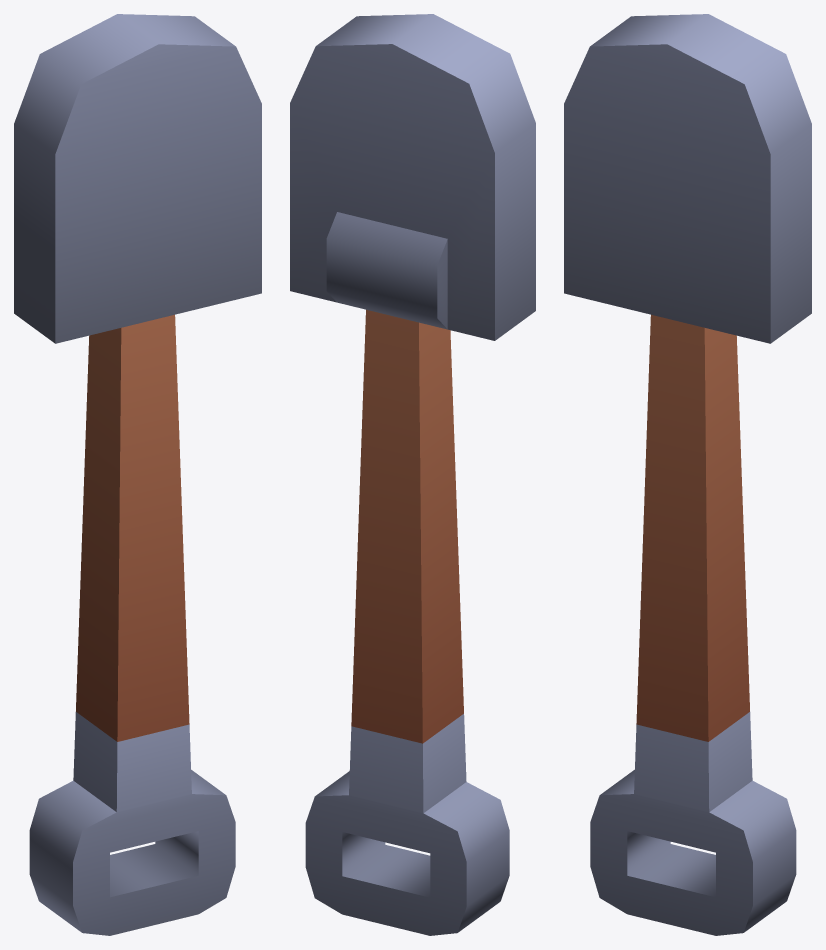
Rendered from tool-shovel.glb.
3 renders of one model, left to right at view 1: azimuth 30°, elevation 25°; view 2: azimuth 150°, elevation 25°; view 3: azimuth 330°, elevation 25°, orthographic.
Parts seen in each view (by area): view 1: tool-shovel; view 2: tool-shovel; view 3: tool-shovel.
Boxes of the visible parts, <box> form: tool-shovel: <box>14,14,261,935</box>; tool-shovel: <box>290,14,535,935</box>; tool-shovel: <box>564,14,811,935</box>.
Size of the model in its own units: 0.2445 by 1 by 0.1067.
